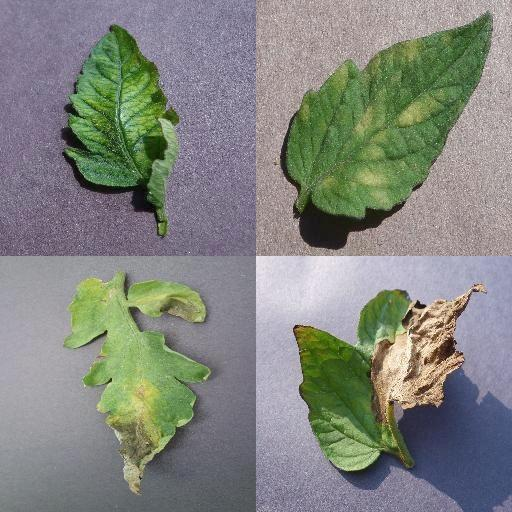Late Blight: (290, 285, 488, 473), (65, 277, 211, 495)
Leaf Mold: (287, 12, 492, 220)
Mosaic Virus: (61, 23, 181, 189)
